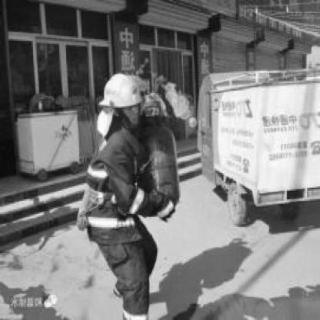other: (103, 72, 135, 110)
